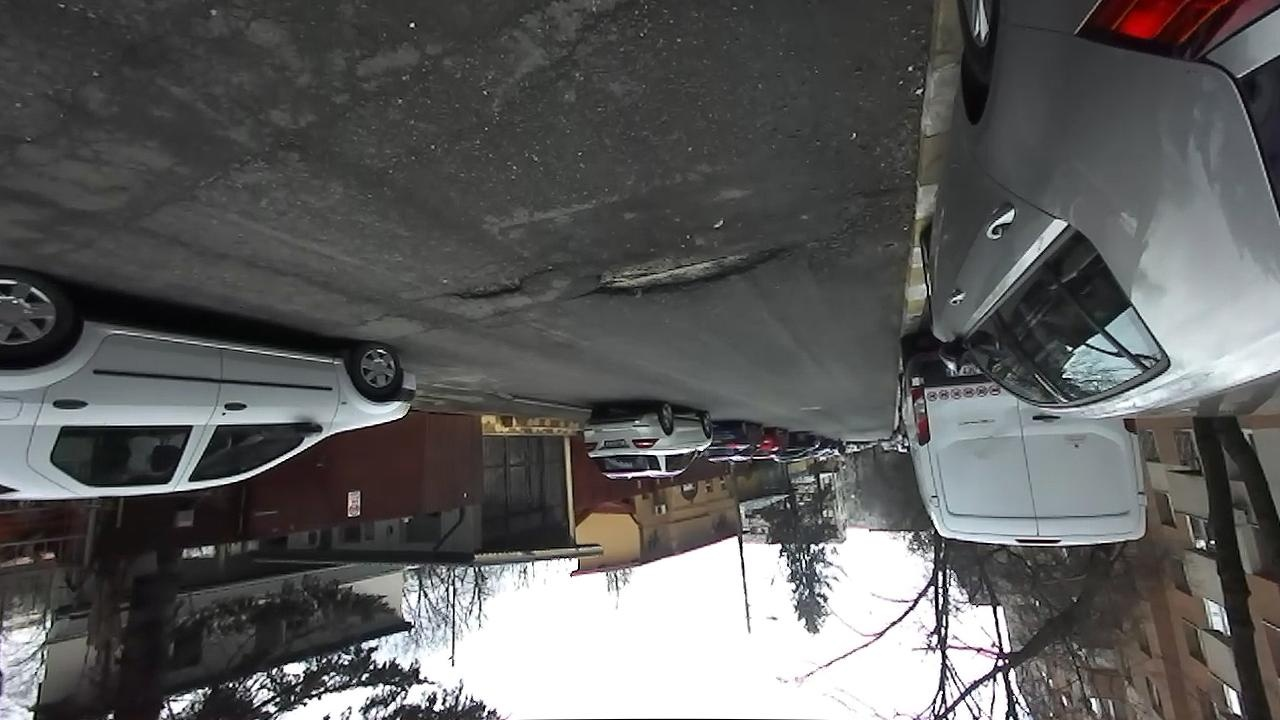pothole: (564, 233, 811, 307), (435, 262, 555, 303)
